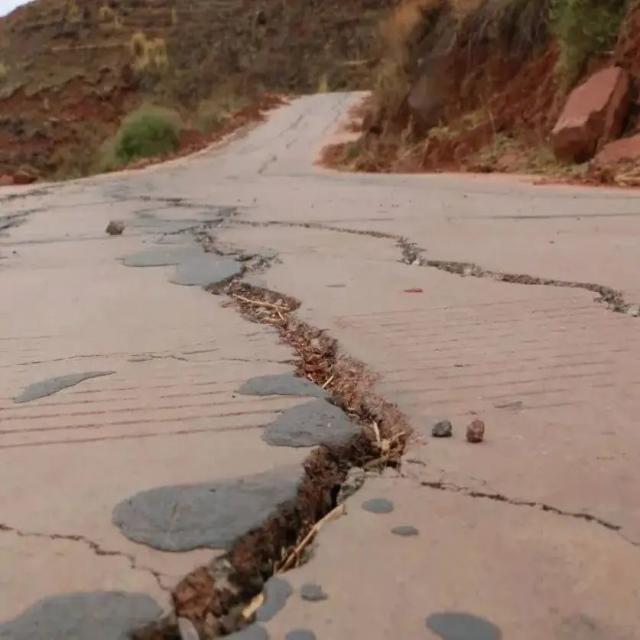Pothole: (130, 191, 412, 639)
